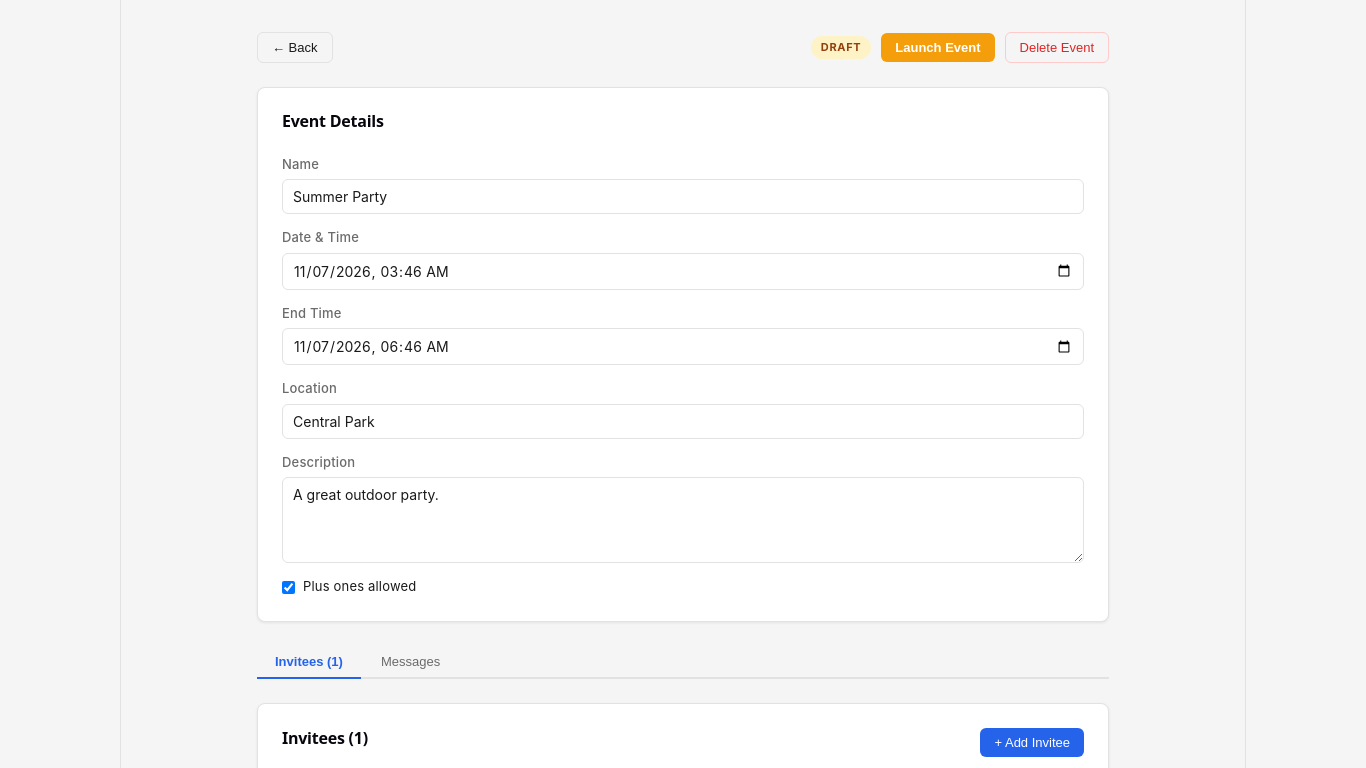
Test case: EventDetails › shows an error banner when a status override fails
Check: the field showing "Summer Party" is shown, box left=282, top=179, right=1084, bottom=214
Click the button "Messages" at (411, 662), box left=363, top=646, right=458, bottom=679
(page scrolled)
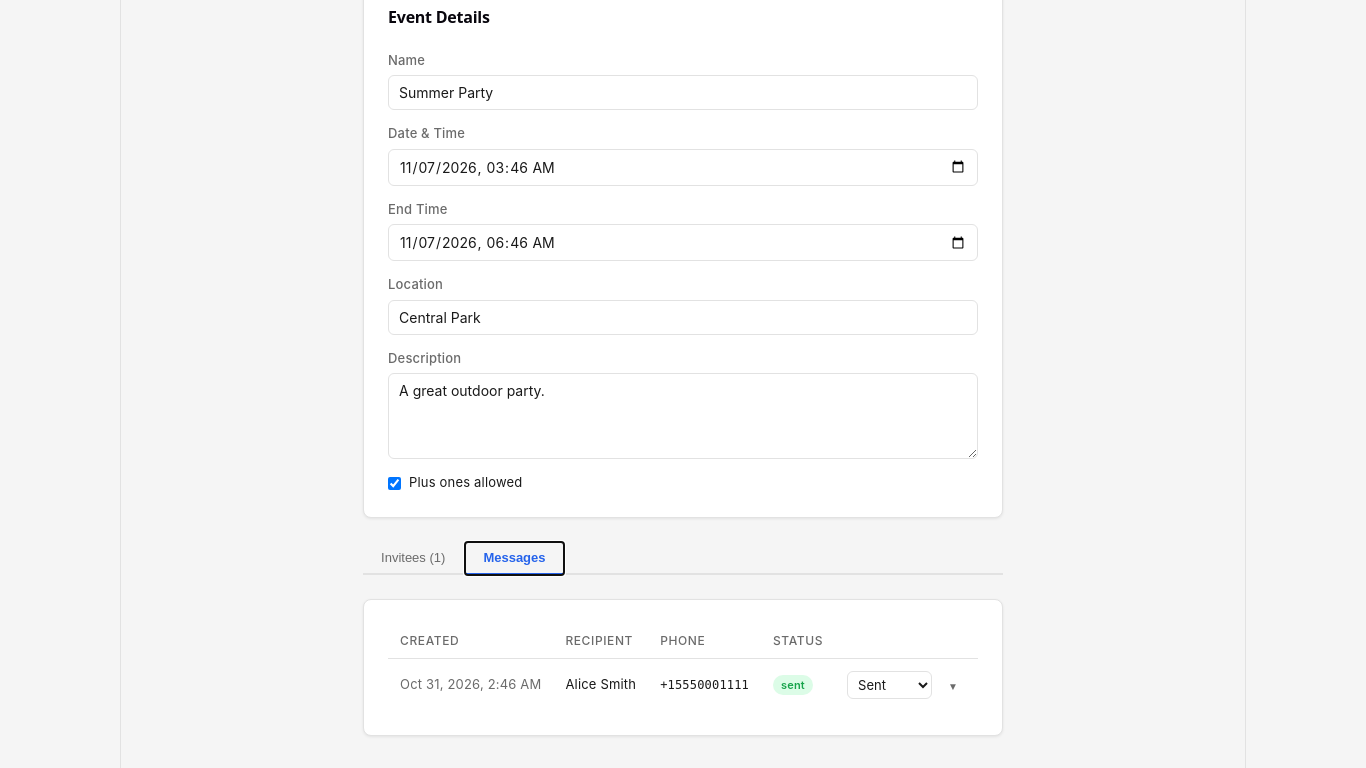
Check: the text "Alice Smith" is shown, box left=553, top=658, right=648, bottom=711
Select "Failed" in the dropdown named "status for alice smith" at (890, 685), box left=847, top=671, right=932, bottom=699
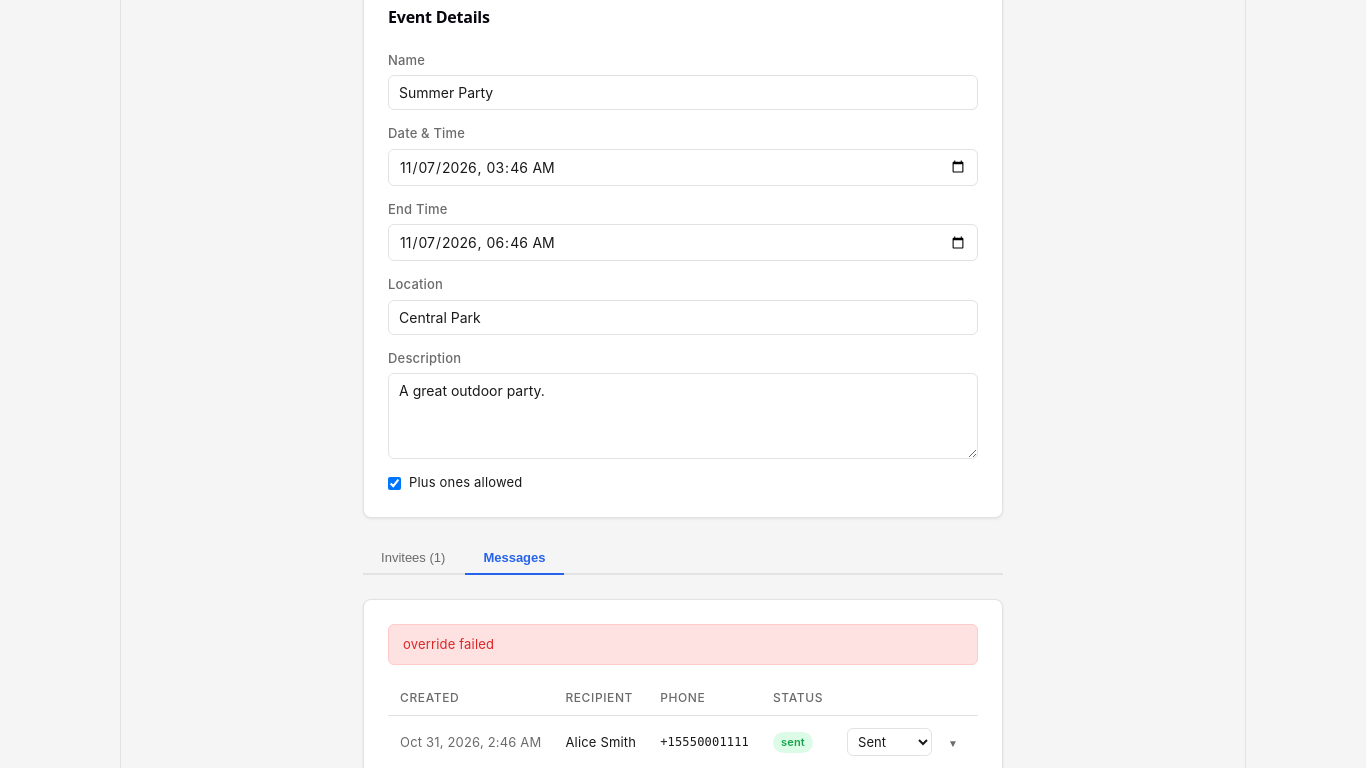
Check: the text "override failed" is shown, box left=388, top=624, right=978, bottom=665
